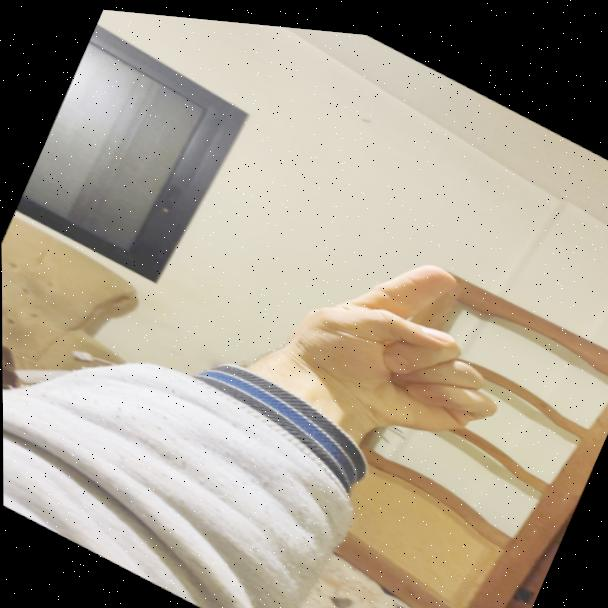one: (292, 211, 546, 470)
